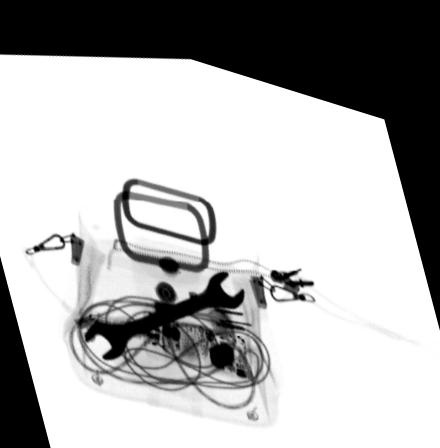Wrench: (82, 254, 245, 354)
